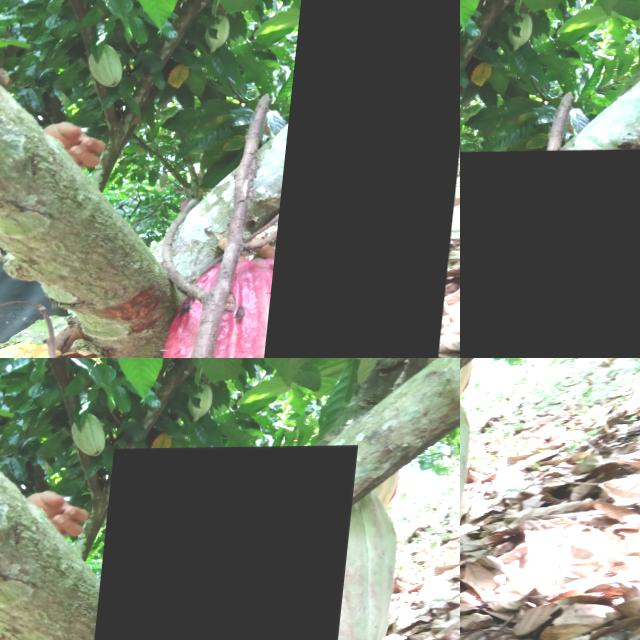Fitoftora: (270, 0, 460, 358)
Monilia: (84, 446, 360, 640), (460, 149, 640, 358)
